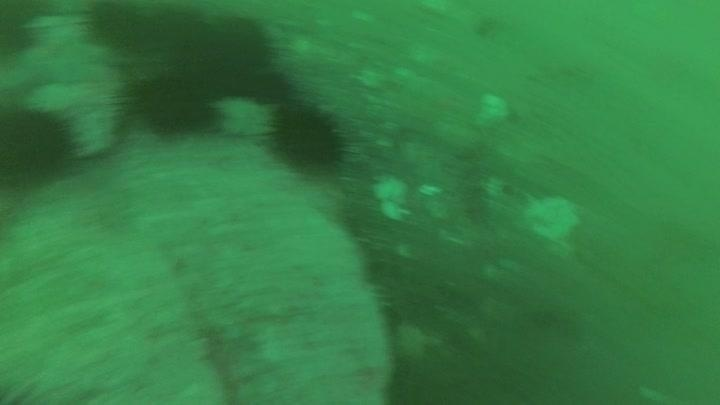echinus: (123, 65, 221, 140), (0, 100, 81, 190), (264, 99, 350, 176), (203, 13, 276, 80), (81, 1, 156, 55)
scallop: (521, 191, 583, 247)
starfish: (1, 12, 124, 105)
